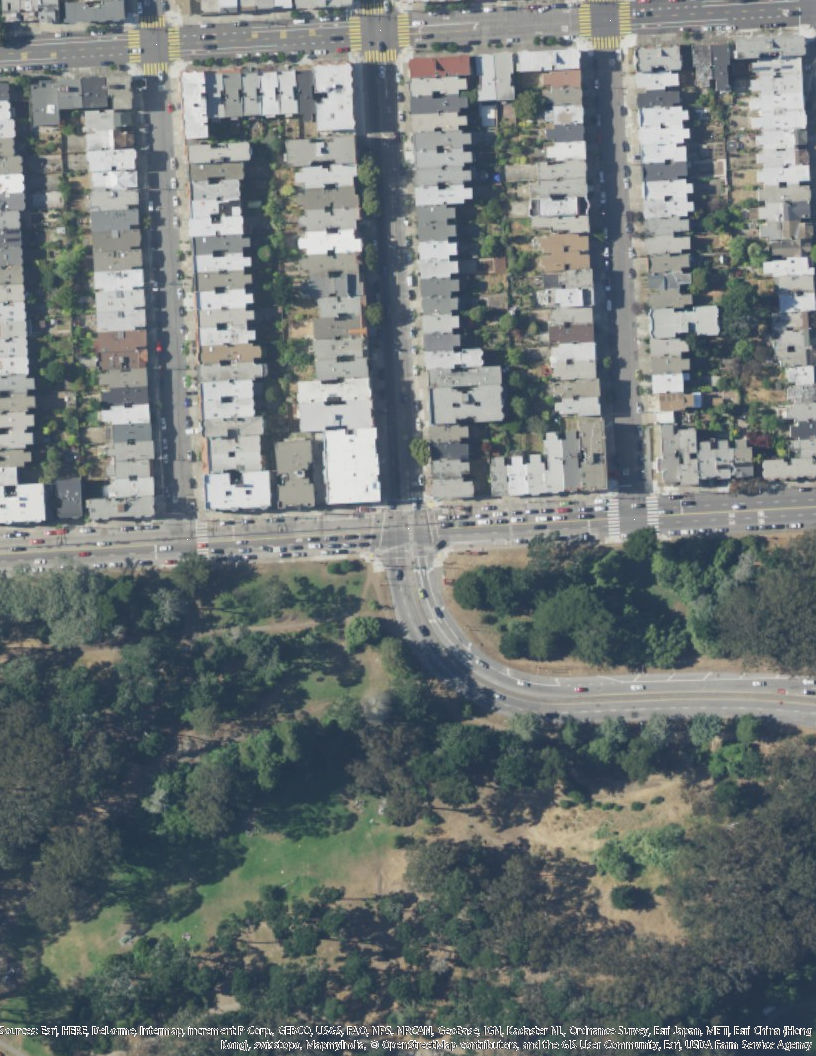zebracross: (605, 493, 621, 540), (346, 13, 362, 55), (644, 493, 660, 532), (126, 27, 142, 64), (365, 49, 402, 64), (617, 2, 633, 36), (578, 2, 593, 38), (396, 12, 411, 48), (592, 36, 624, 52), (166, 28, 181, 62), (194, 520, 209, 552), (141, 13, 166, 30), (357, 1, 389, 14), (142, 62, 168, 75)
